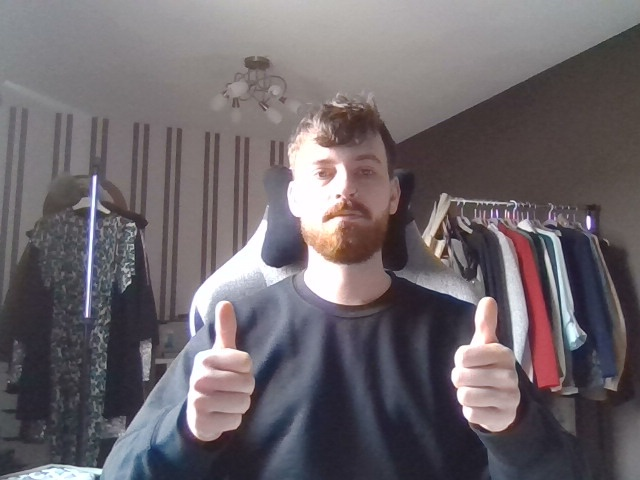Thumbs Up: (175, 293, 270, 446), (436, 286, 529, 436)
